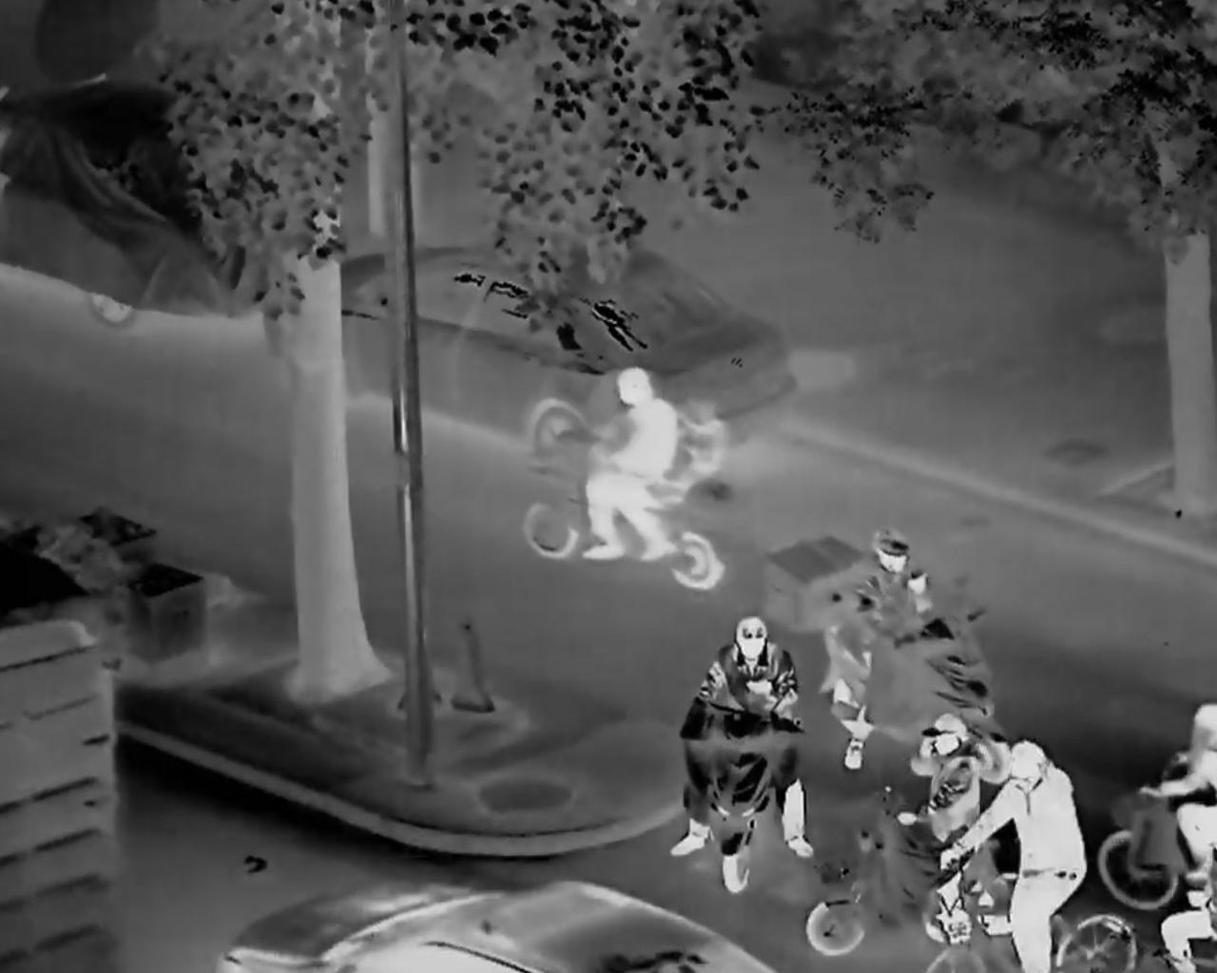person: (676, 610, 816, 882), (958, 737, 1086, 973), (842, 513, 937, 802), (567, 353, 692, 561), (1154, 694, 1217, 889), (915, 713, 981, 898)
